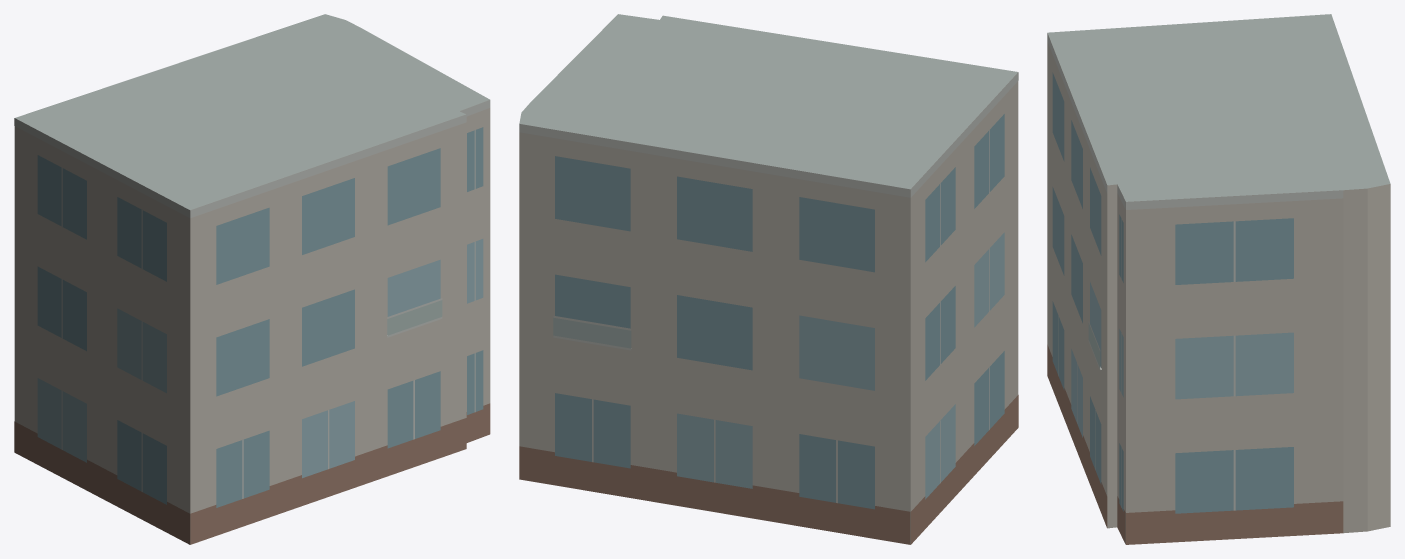
File: survey-upis-32577085.glb
The picture shows the model from 3 angles, left to right: view 1: azimuth 30°, elevation 25°; view 2: azimuth 150°, elevation 25°; view 3: azimuth 270°, elevation 25°; orthographic projection. The views are drawn at different scales.
Visible parts, largest first — view 1: survey-upis-32577085.tmp; view 2: survey-upis-32577085.tmp; view 3: survey-upis-32577085.tmp.
Part boxes in pixels (x1=…): survey-upis-32577085.tmp: x1=14, y1=14, x2=490, y2=544; survey-upis-32577085.tmp: x1=519, y1=14, x2=1018, y2=544; survey-upis-32577085.tmp: x1=1047, y1=14, x2=1390, y2=544.
Size of the model in its own units: 11.99 by 10.2 by 9.26.
